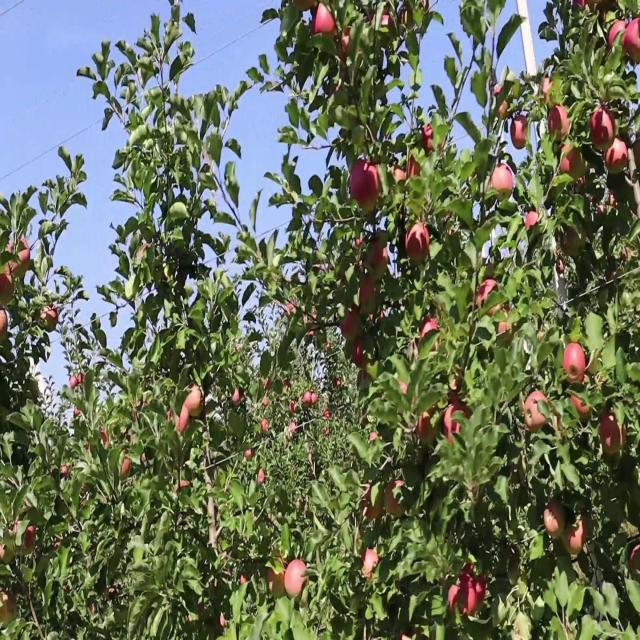apple: (352, 163, 382, 208), (472, 277, 502, 320), (448, 575, 477, 619), (444, 405, 472, 448), (600, 412, 627, 455), (524, 391, 551, 434), (592, 106, 616, 151), (604, 135, 629, 178), (564, 341, 588, 384), (8, 234, 32, 276), (476, 277, 500, 318), (416, 319, 441, 356), (548, 106, 572, 144), (492, 163, 516, 201), (416, 405, 439, 444), (560, 142, 583, 181), (544, 497, 565, 539), (284, 561, 308, 597), (408, 227, 432, 263), (312, 7, 337, 41), (564, 519, 586, 556), (388, 476, 406, 519), (368, 241, 390, 276), (364, 483, 384, 521), (564, 227, 587, 260), (624, 21, 640, 66), (340, 305, 360, 341), (496, 305, 514, 345), (492, 85, 511, 121), (16, 519, 36, 553), (360, 277, 378, 313), (268, 561, 286, 596), (40, 305, 60, 334), (512, 113, 528, 149), (424, 120, 440, 156), (448, 369, 465, 402), (188, 383, 204, 418), (608, 21, 626, 52), (0, 590, 16, 624), (364, 547, 380, 580), (176, 462, 192, 492), (572, 398, 591, 423), (340, 28, 353, 64), (352, 341, 368, 370), (0, 277, 16, 306), (16, 241, 32, 270), (476, 575, 488, 612), (20, 526, 36, 553), (572, 1, 599, 16), (8, 248, 22, 276), (292, 0, 316, 14), (180, 405, 191, 434), (556, 248, 567, 277), (396, 7, 411, 28), (408, 156, 421, 180), (524, 213, 541, 231), (380, 14, 395, 34), (364, 7, 378, 28), (120, 455, 132, 478), (296, 0, 315, 14), (176, 476, 192, 492), (544, 78, 553, 105), (392, 170, 407, 185), (0, 312, 8, 340), (552, 412, 561, 436), (632, 547, 640, 572), (357, 234, 365, 252), (636, 142, 640, 171), (0, 547, 5, 562), (220, 618, 227, 628), (60, 469, 68, 476)
